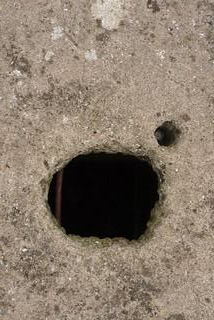Exposed reinforcement: (55, 168, 63, 221)
Spalling: (47, 150, 161, 242), (154, 120, 182, 147)
